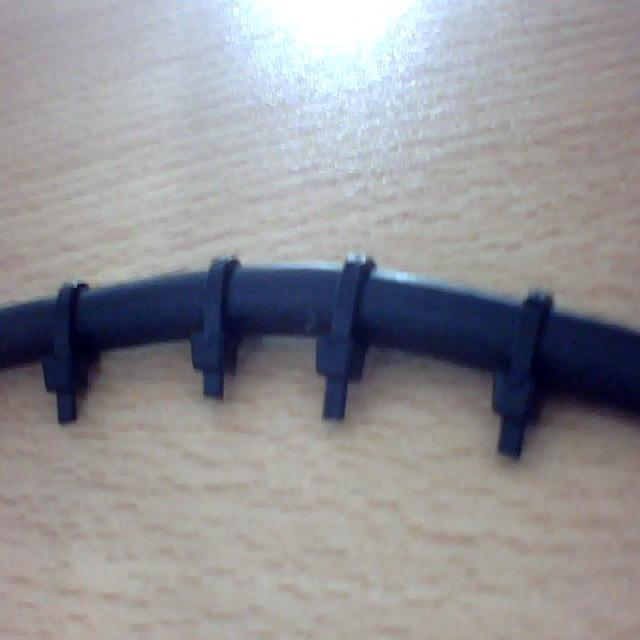cable-tie: (480, 286, 564, 462), (307, 251, 378, 428), (178, 253, 259, 405)
